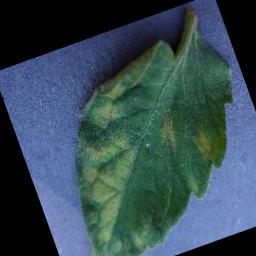Leaf_Mold: (40, 76, 170, 249), (188, 124, 221, 165)
